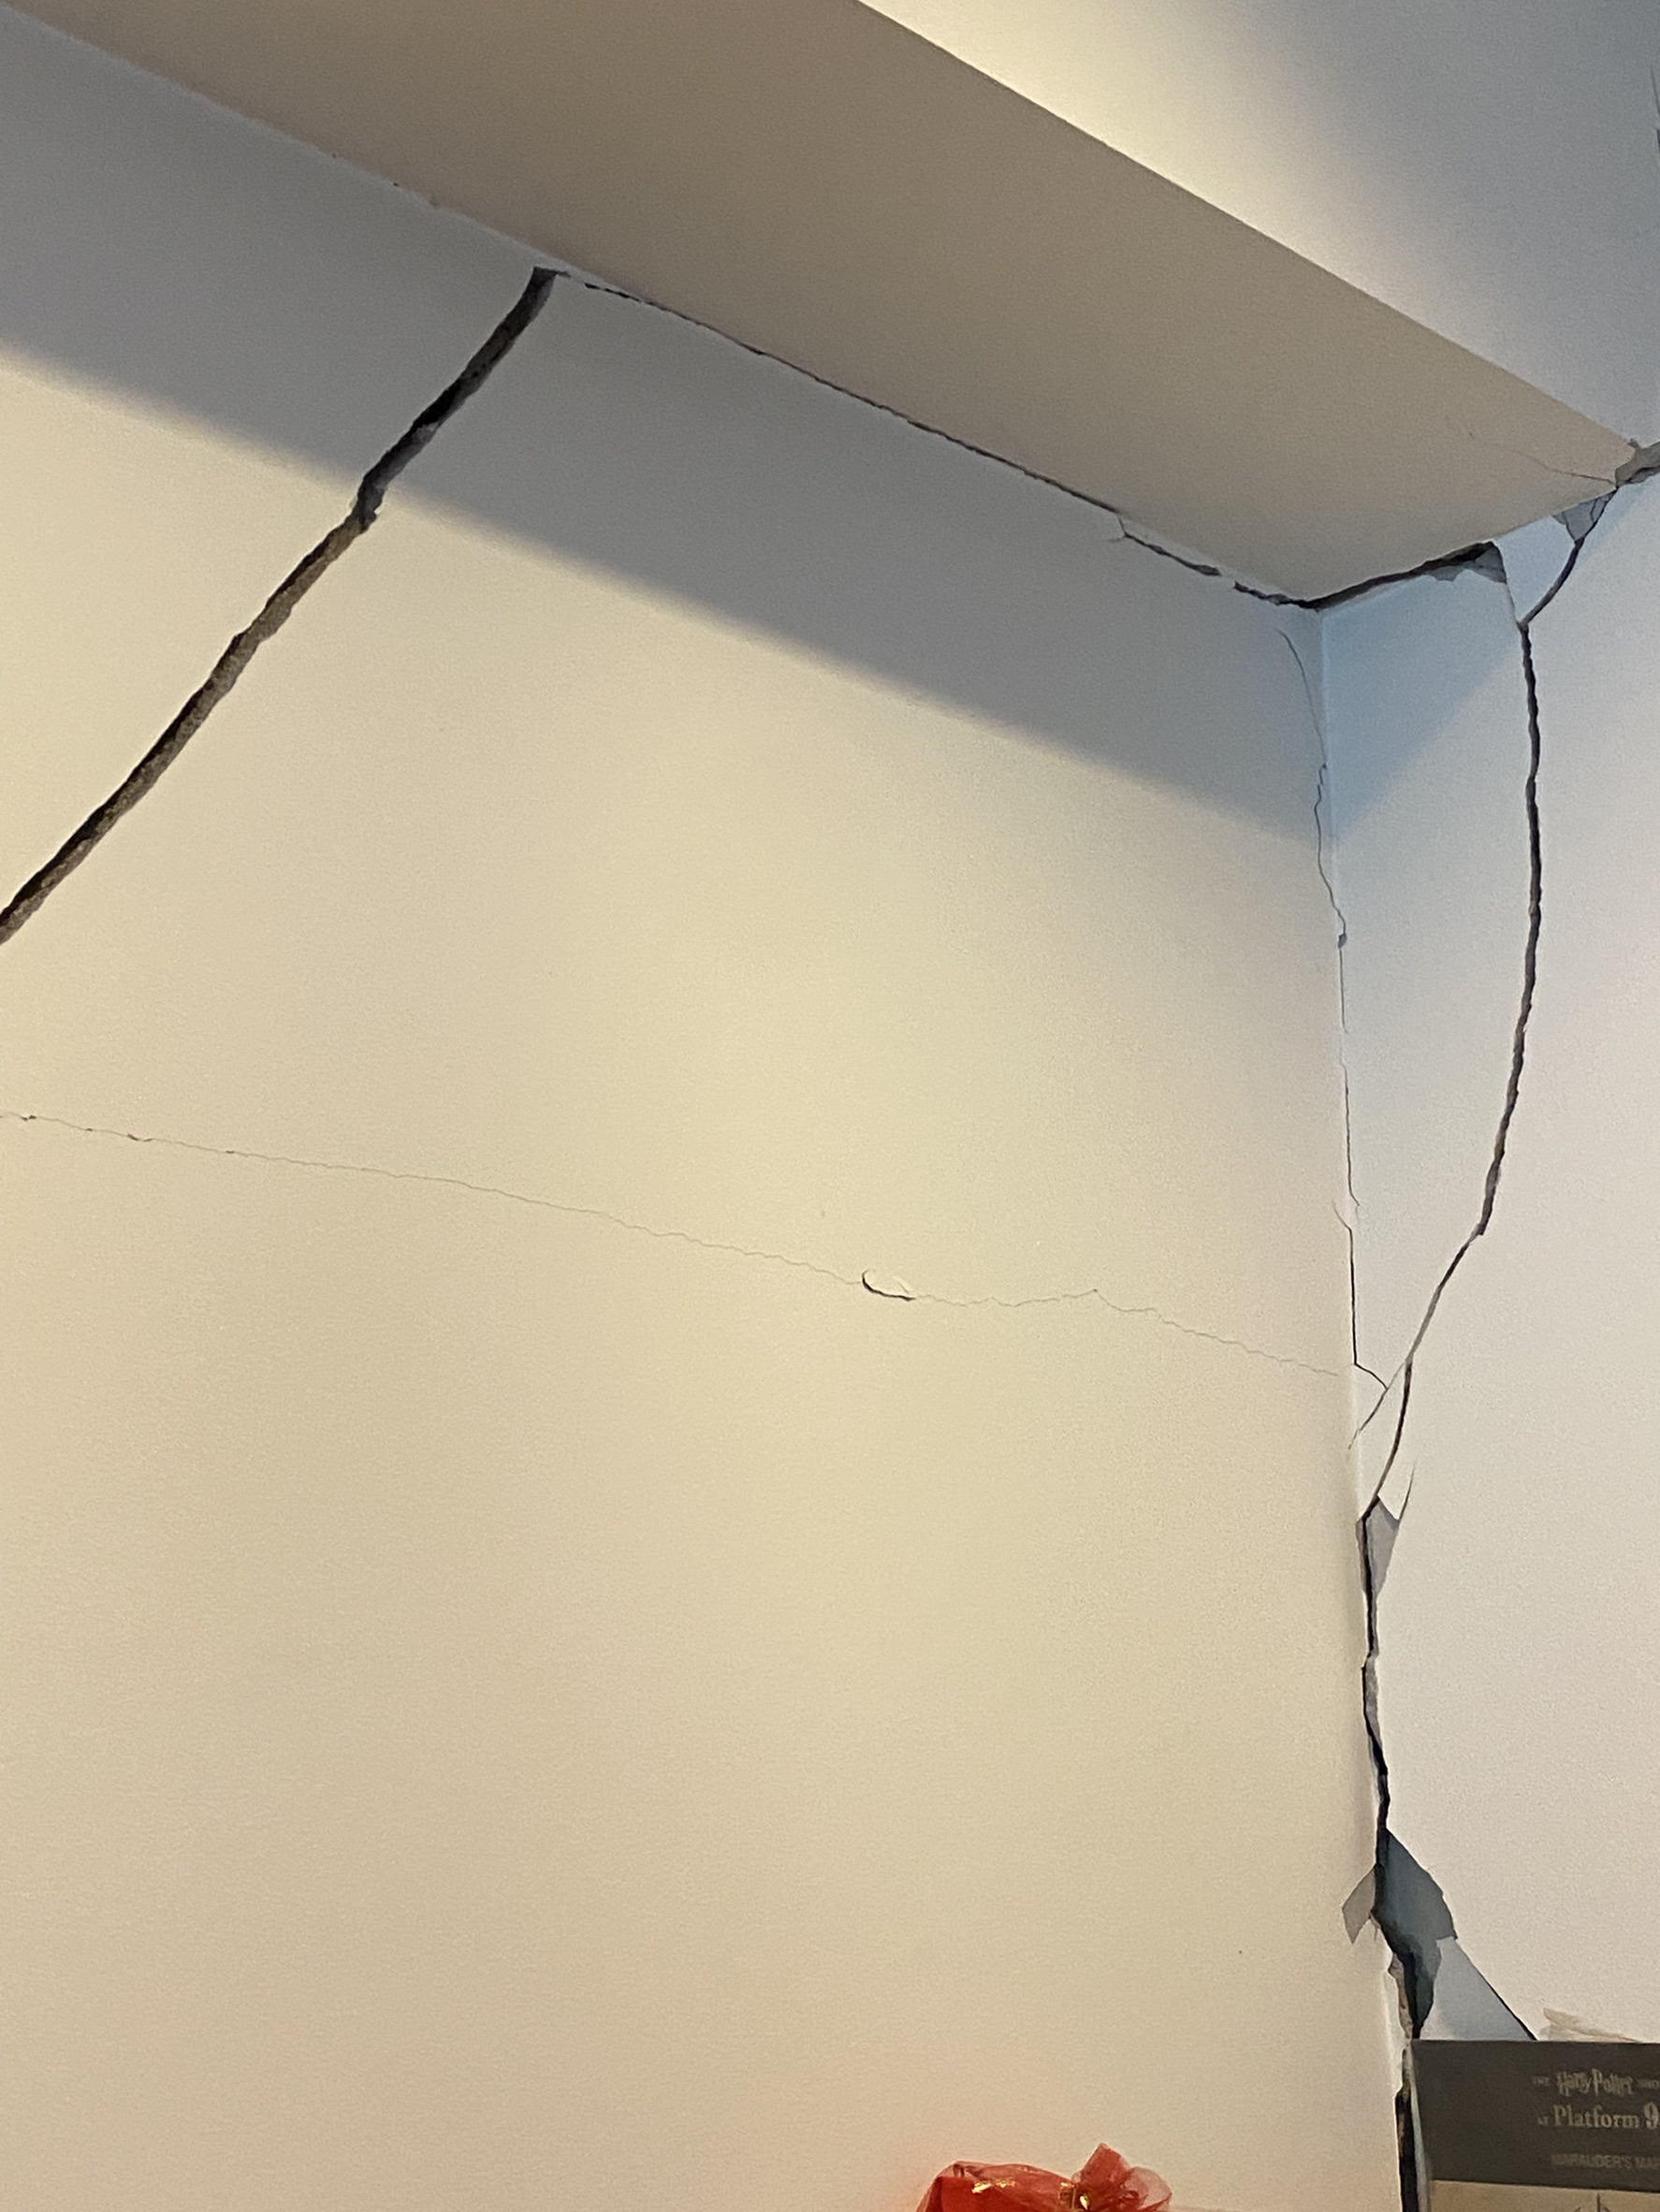Medium: (1320, 573, 1587, 1964)
